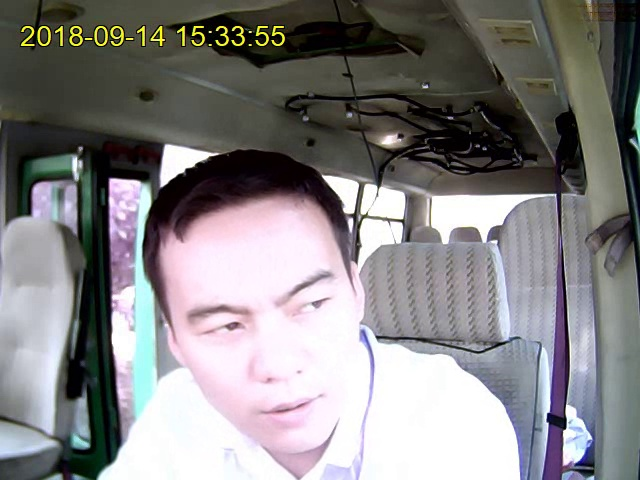closed_mouth: (253, 396, 323, 424)
open_eye: (292, 296, 335, 319), (204, 321, 246, 339)
